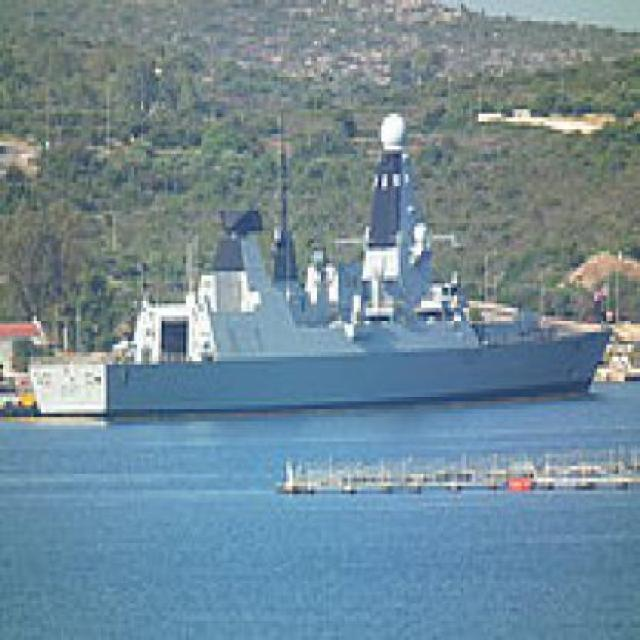warship2: (25, 94, 623, 431)
